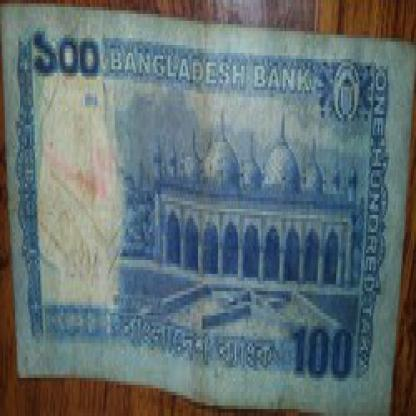one hundred taka: (26, 21, 104, 90), (288, 315, 358, 382)
